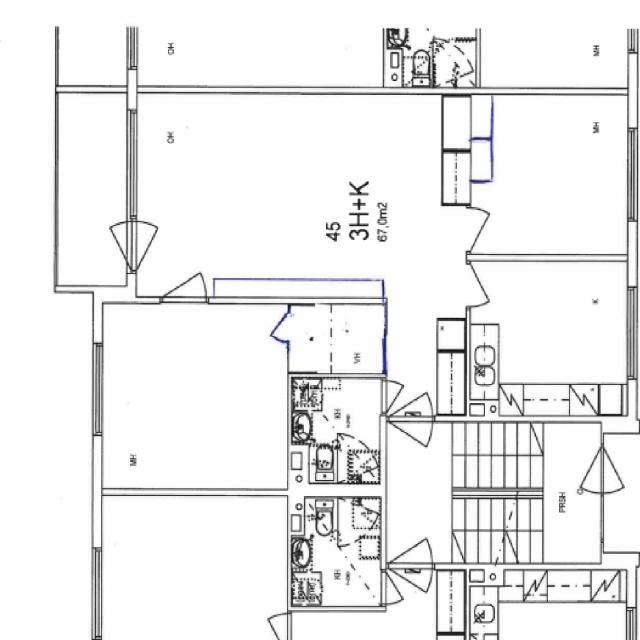door: (125, 223, 178, 271), (162, 247, 206, 304), (84, 223, 136, 271), (390, 416, 432, 471), (390, 368, 432, 422), (466, 208, 508, 252), (466, 265, 507, 307), (382, 381, 414, 412), (264, 314, 292, 341)
